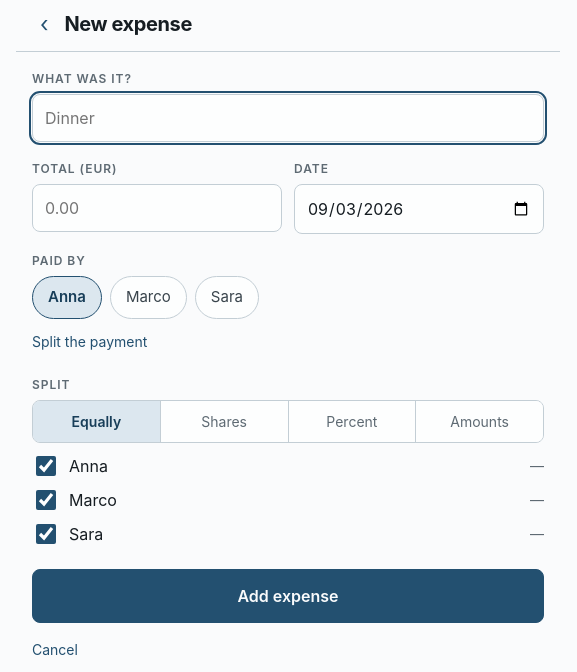
Test: with a ledger › picks the payer in one tap, with the first person preselected
Expected: the radio button labelled "Anna" is checked, x1=32 y1=276 x2=102 y2=318
What coordinates should you click on to do the following:
click the radio button labelled "Sara"
I would click on:
 (227, 297)
Its box is x1=195 y1=276 x2=259 y2=318.
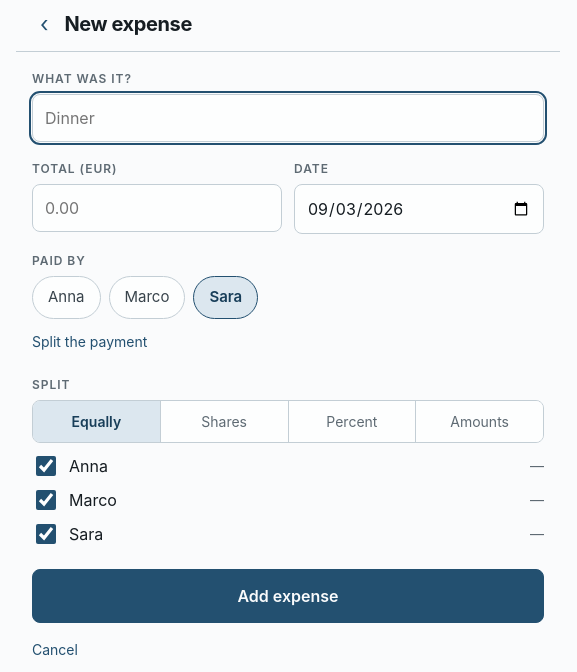
Result: the radio button labelled "Sara" is checked at x1=193 y1=276 x2=258 y2=318
Result: the radio button labelled "Anna" is not checked at x1=32 y1=276 x2=100 y2=318
